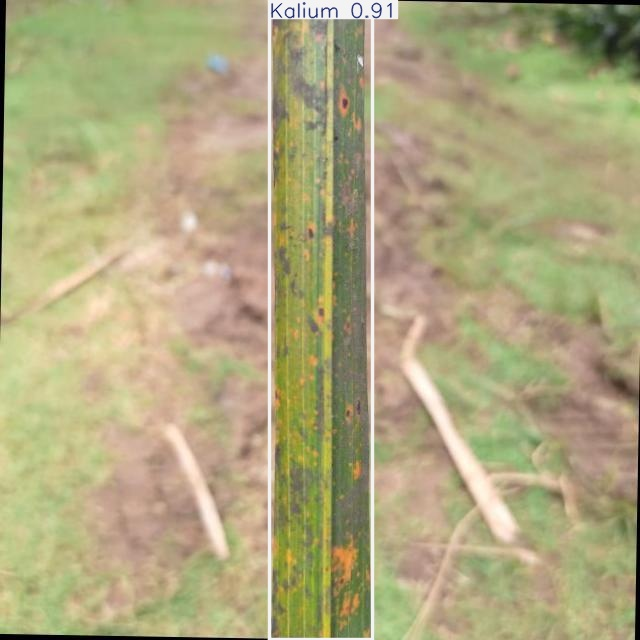Kalium: (269, 0, 372, 640)
